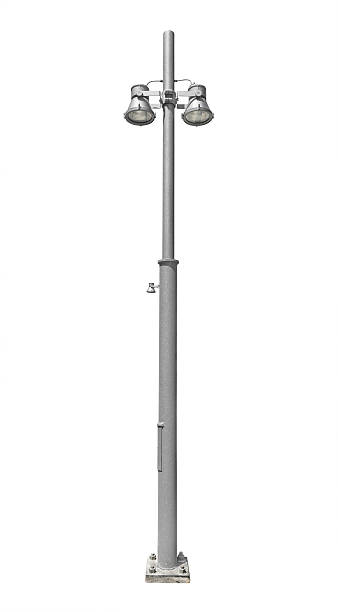light_pole: (152, 119, 182, 570)
